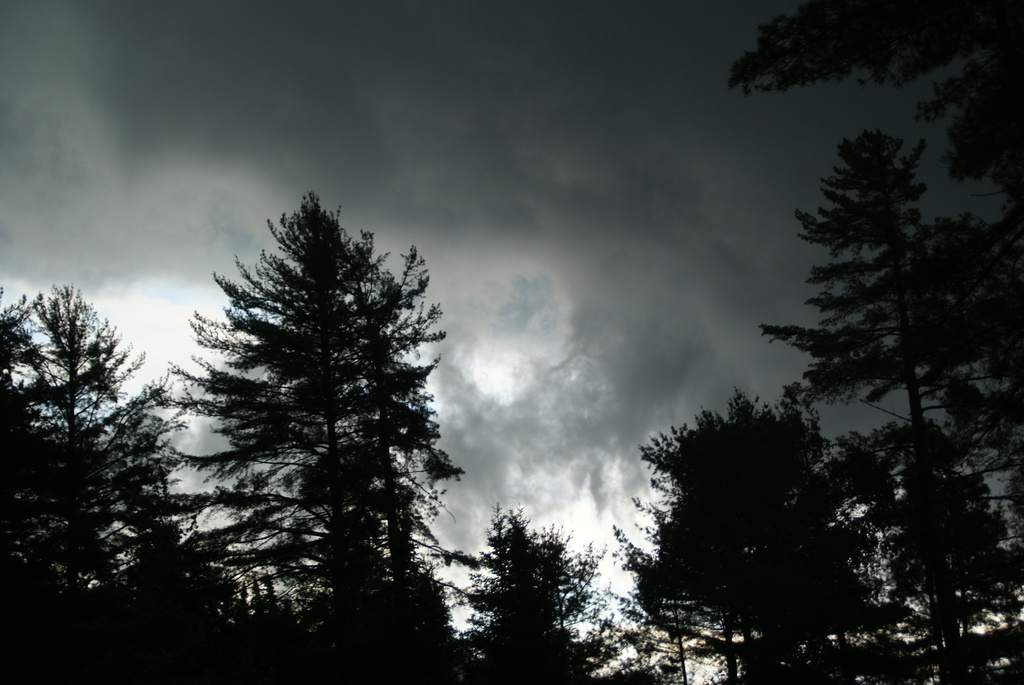Tree: (0, 190, 680, 684), (745, 125, 1023, 684), (592, 376, 1023, 684), (721, 0, 1023, 260)
